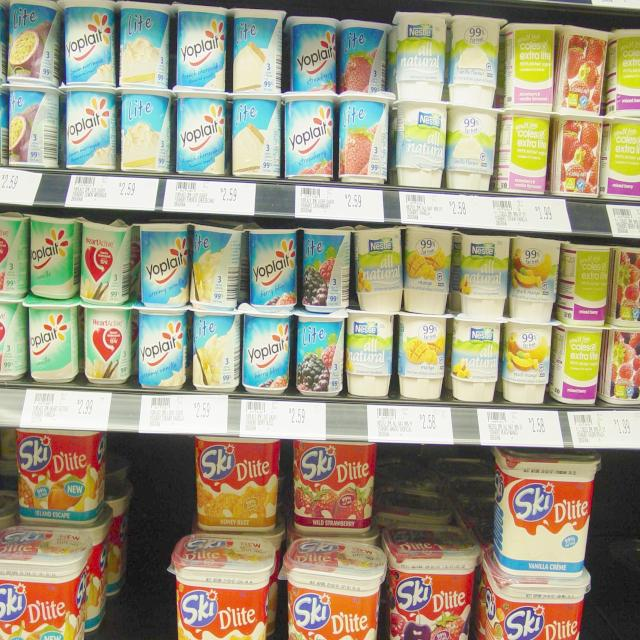empty_space: (114, 438, 170, 630), (394, 454, 482, 522), (602, 484, 640, 624)
